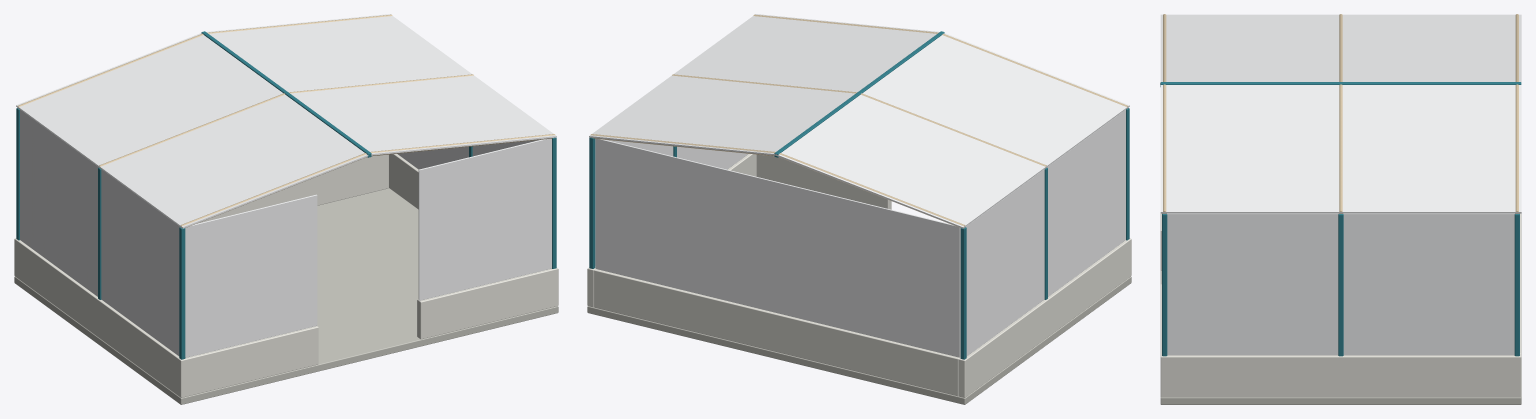
The model's file is bicycle-shop-and-repair-cafe-roofed-bicycle-shop-a7fb5ec7__32380.glb.
The picture shows the model from 3 angles, left to right: view 1: azimuth 30°, elevation 25°; view 2: azimuth 150°, elevation 25°; view 3: azimuth 270°, elevation 25°; orthographic projection. The views are drawn at different scales.
Parts seen in each view (by area): view 1: roofed-bicycle-shop; view 2: roofed-bicycle-shop; view 3: roofed-bicycle-shop.
Part boxes in pixels (<box>): roofed-bicycle-shop: <box>14,14,558,404</box>; roofed-bicycle-shop: <box>587,14,1131,404</box>; roofed-bicycle-shop: <box>1160,14,1521,404</box>.
Size of the model in its own units: 6.8 by 3.54 by 5.2.
